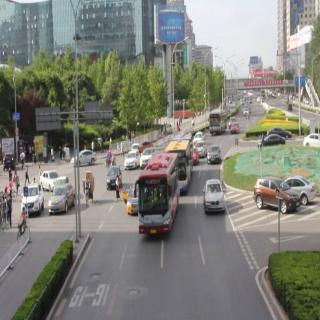BigCar: (140, 148, 180, 246), (166, 126, 196, 199), (207, 103, 230, 139)
Car: (254, 168, 297, 228), (277, 170, 313, 213), (201, 173, 225, 218), (18, 180, 42, 222), (48, 182, 74, 215), (65, 150, 99, 173), (37, 162, 58, 196), (205, 142, 225, 170), (104, 162, 122, 191), (124, 144, 142, 173), (126, 184, 141, 215), (142, 142, 153, 172), (231, 120, 240, 138)
